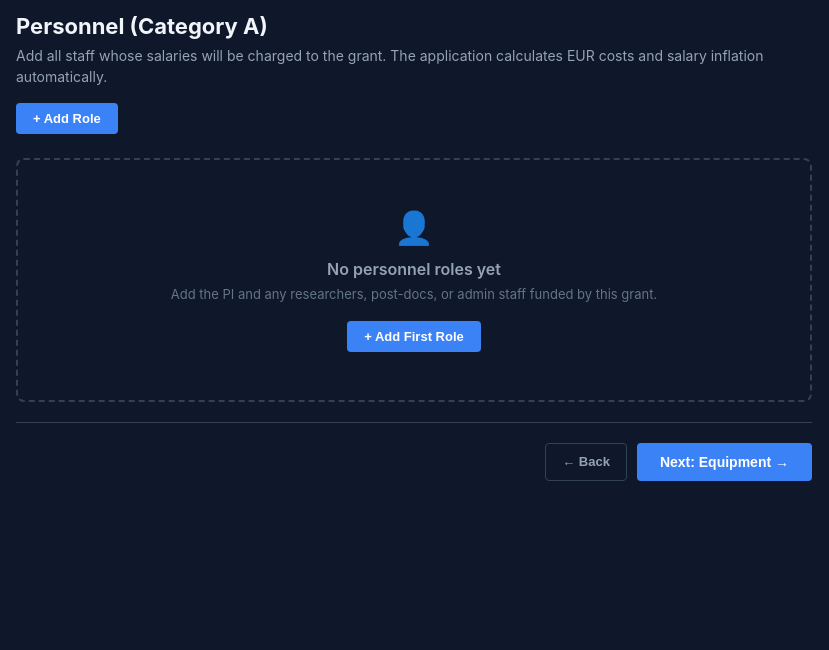
Scenario: Personnel — salary currency › defaults to TRY and labels the salary field accordingly
Step 1. Click the button "+ Add Role" → (67, 118), box [16,103,118,134]
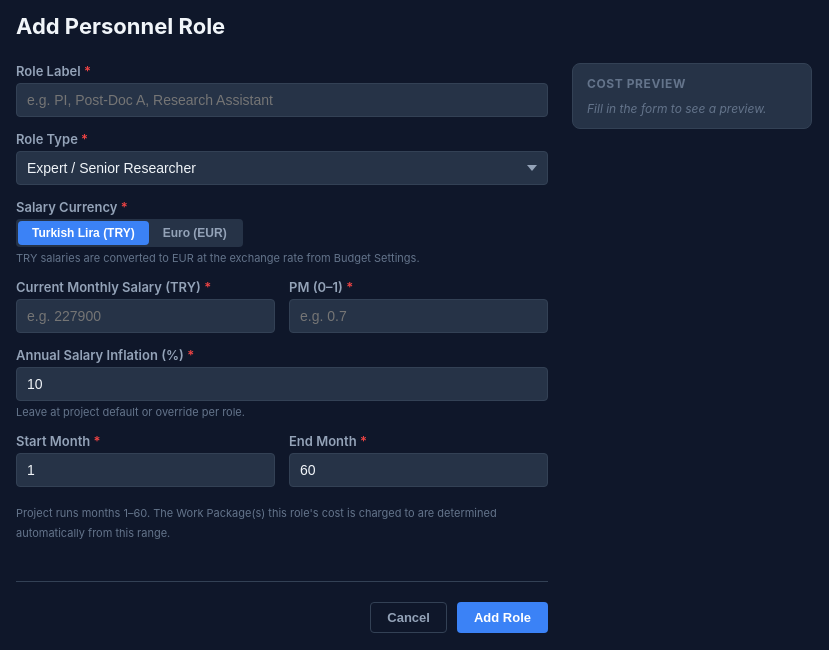
Check: the number field labelled "Current Monthly Salary (TRY)" is shown, box [16,299,275,333]
